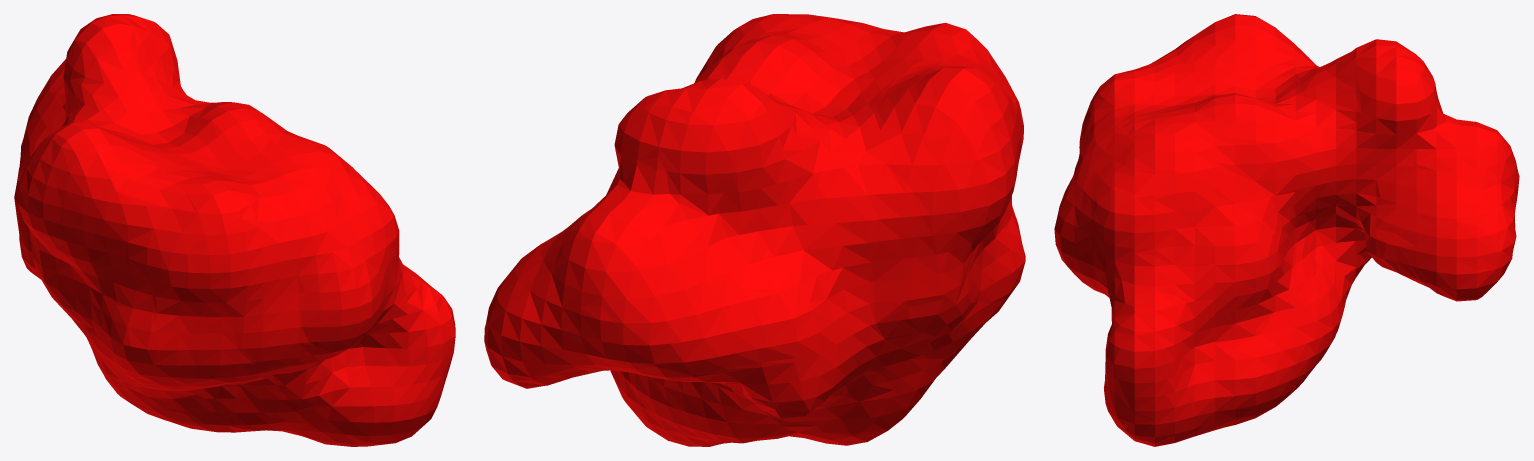
The model's file is exbD_coarse.dae.
3 views of the same model, side by side, from view 1: azimuth 30°, elevation 25°; view 2: azimuth 150°, elevation 25°; view 3: azimuth 270°, elevation 25° (orthographic). The views are drawn at different scales.
Visible parts, largest first — view 1: exbD; view 2: exbD; view 3: exbD.
Part boxes in pixels (box(x1,y1,x2,y2)): exbD: box(14, 14, 455, 446); exbD: box(484, 14, 1025, 446); exbD: box(1054, 14, 1519, 446).
Bounding box in the file's own units: 41.99 × 40.79 × 51.25.
